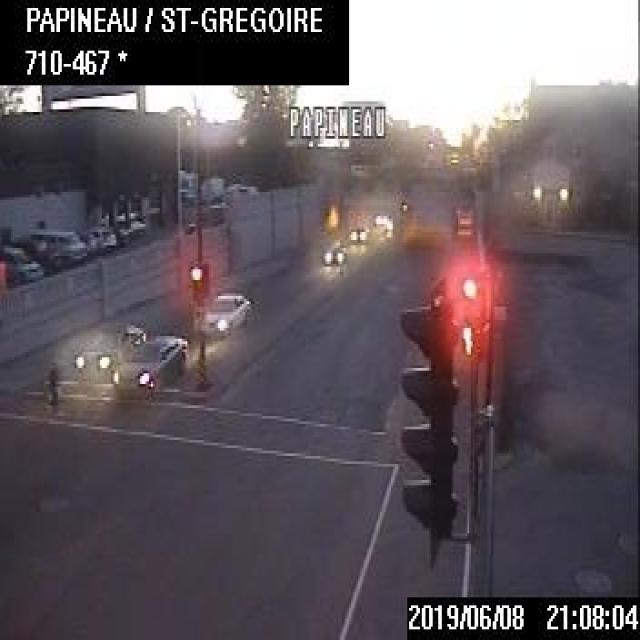pedestrian: (40, 354, 62, 417)
vehicle: (113, 329, 186, 403), (71, 315, 144, 378), (191, 291, 249, 341), (29, 226, 88, 262), (0, 244, 44, 281), (320, 241, 345, 264), (348, 219, 369, 245)
